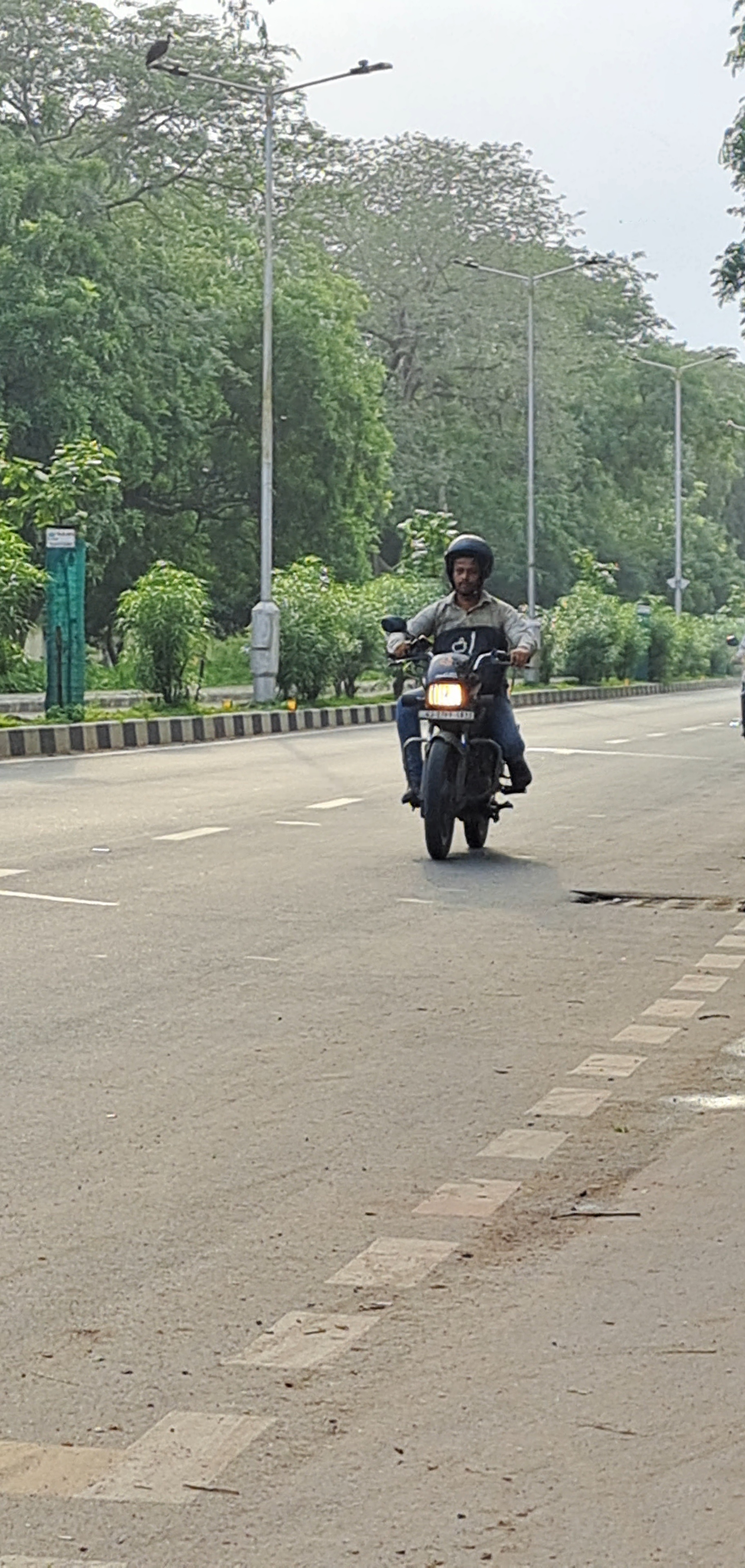BikeWithRider: (374, 527, 550, 873)
Helmet: (435, 527, 499, 604)
